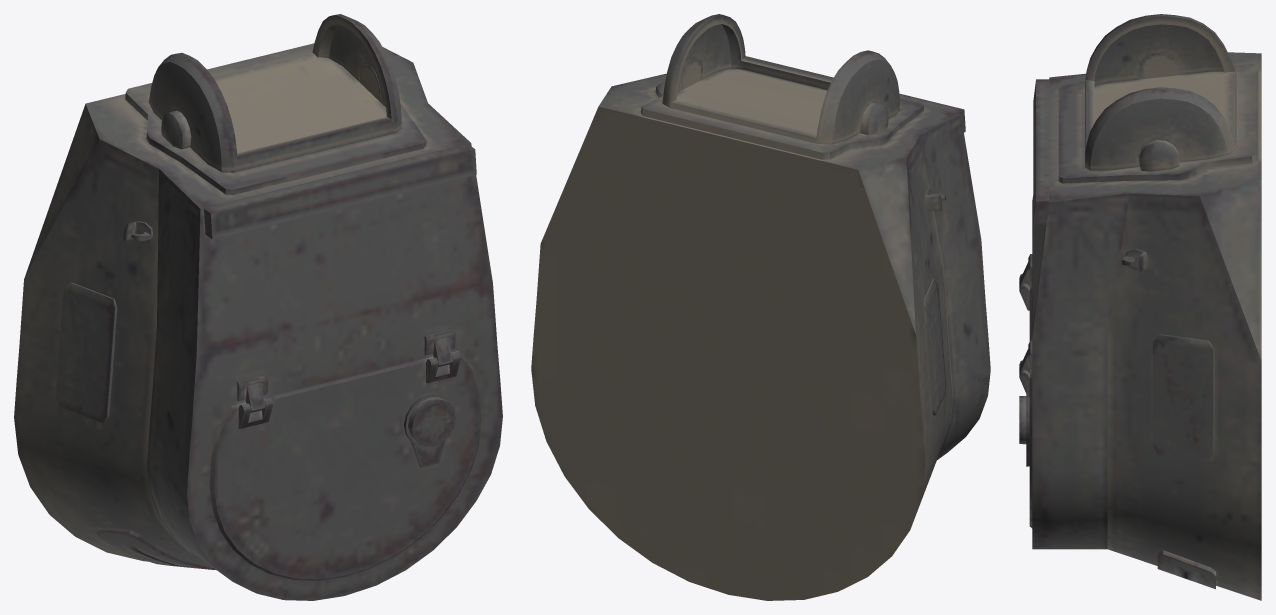
File: Turret_01.glb
3 views of the same model, side by side, from view 1: azimuth 30°, elevation 25°; view 2: azimuth 150°, elevation 25°; view 3: azimuth 270°, elevation 25° (orthographic). The views are drawn at different scales.
Visible parts, largest first — view 1: set_0_group_0; view 2: set_0_group_0; view 3: set_0_group_0.
Part boxes in pixels (box(x1,y1,x2,y2)): set_0_group_0: box(14, 14, 502, 600); set_0_group_0: box(531, 14, 990, 600); set_0_group_0: box(1019, 14, 1261, 600).
Bounding box in the file's own units: 1.05 × 1.32 × 0.5548.
1 material, 1 textured.
